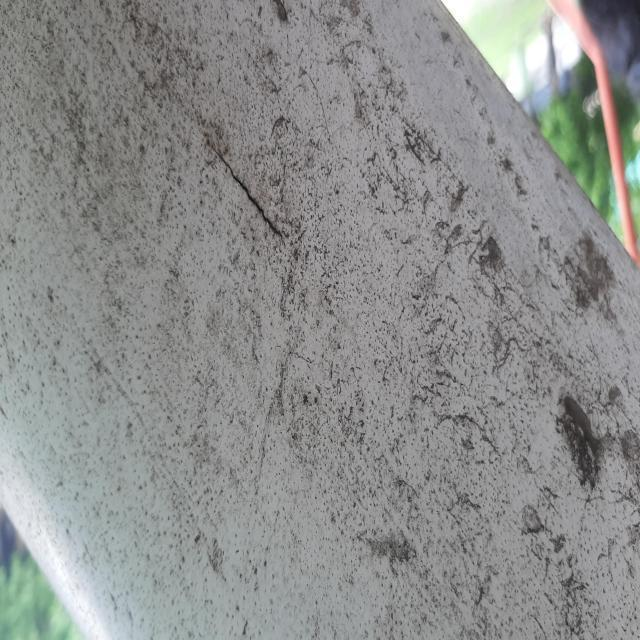Crack: (201, 140, 290, 253)
